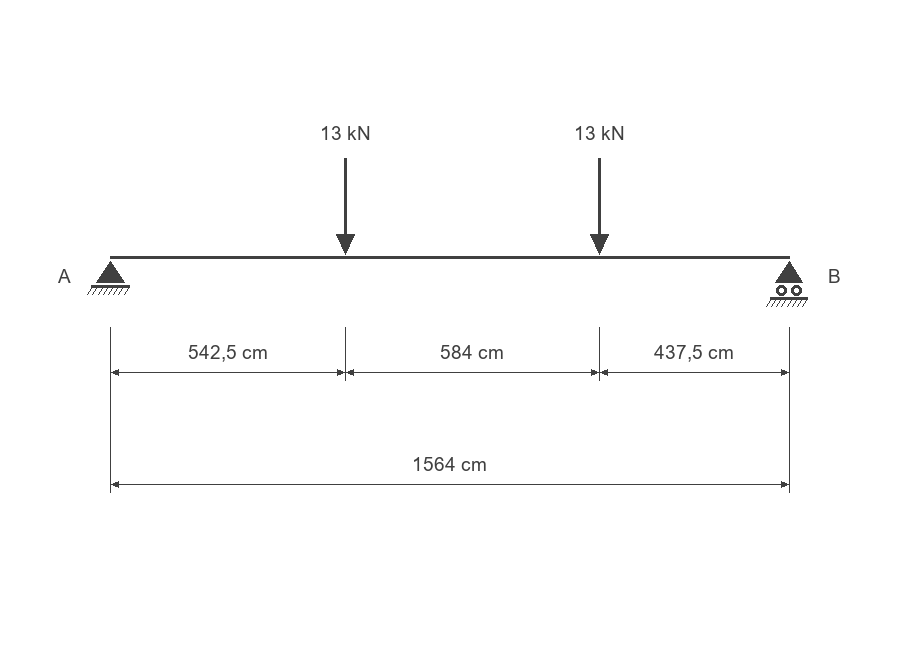pin_support: (87, 261, 130, 295)
point_load: (336, 158, 355, 255), (590, 158, 609, 255)
roller_support: (766, 261, 808, 307)
